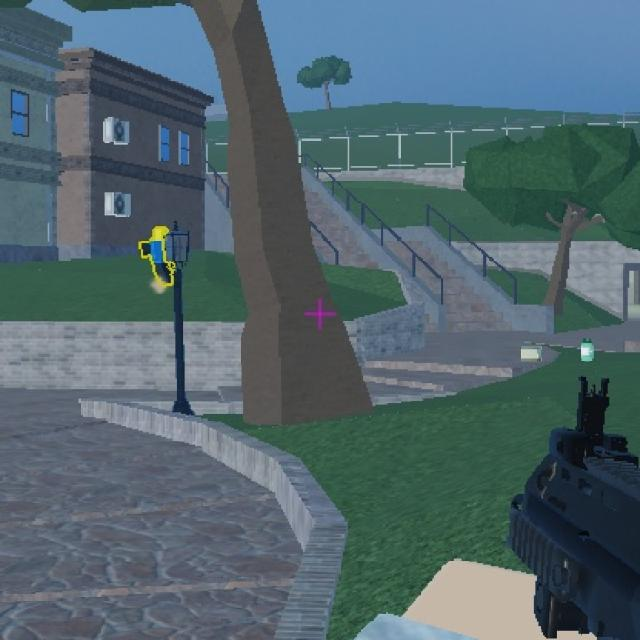player: (141, 223, 170, 290)
